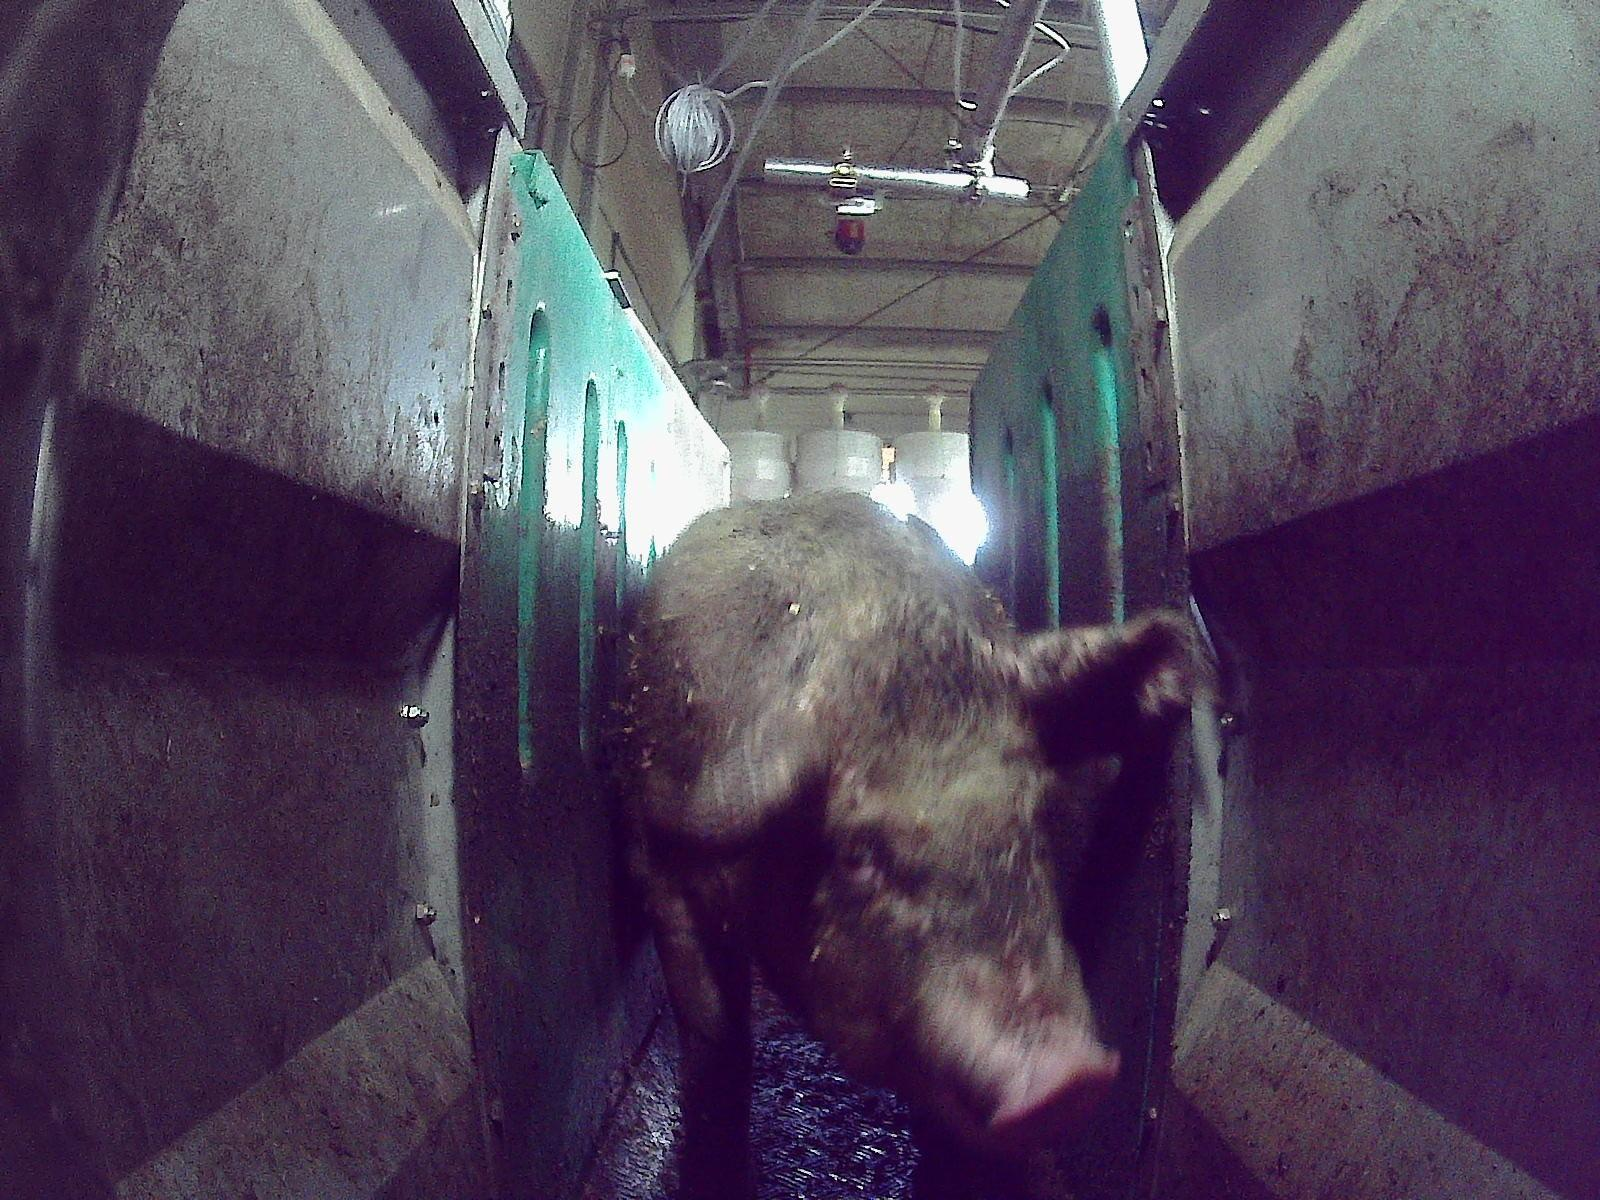Face: (746, 627, 1115, 1156)
